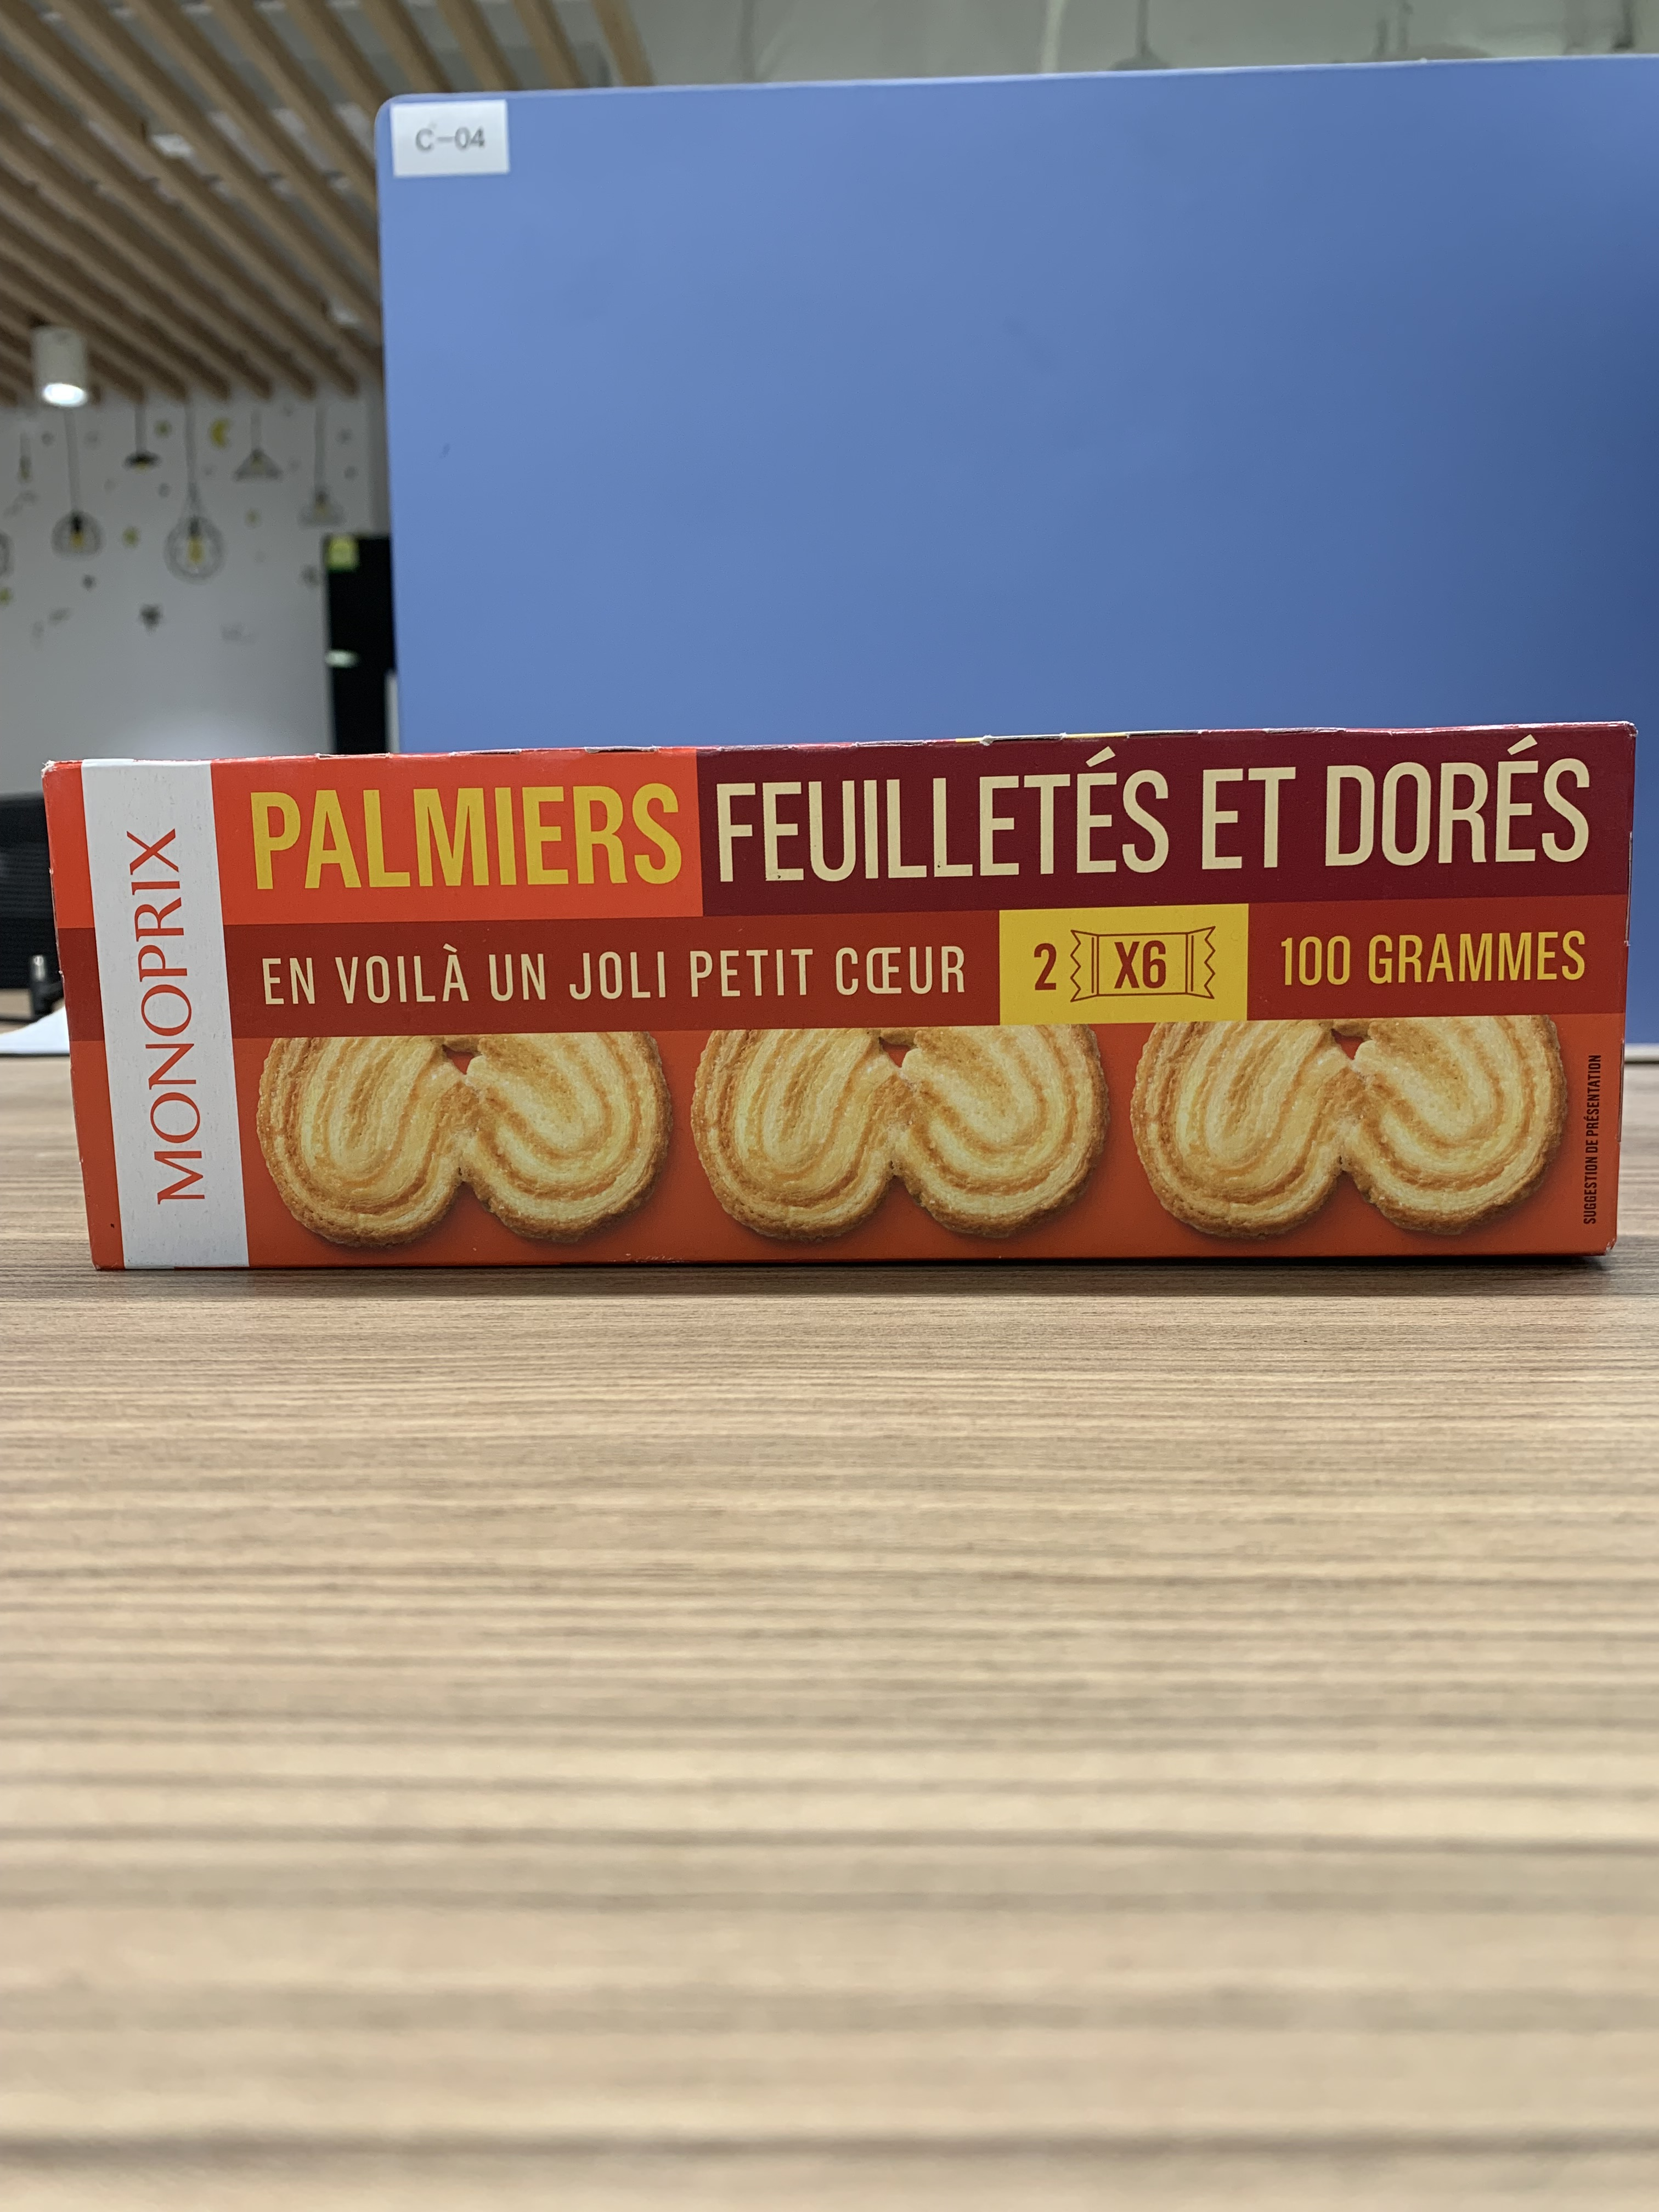cookies_100g-199g: (59, 756, 1615, 1244)
